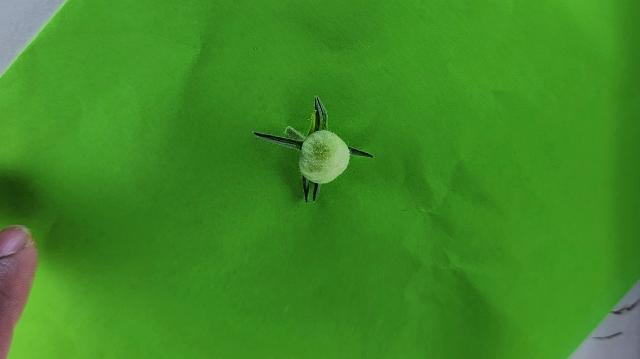Fruit Maturation: (298, 130, 350, 183)
